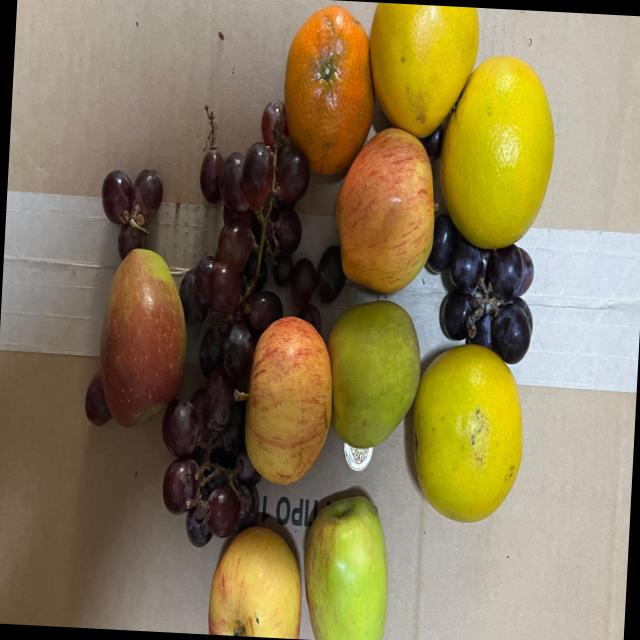moneda: (338, 424, 376, 480)
